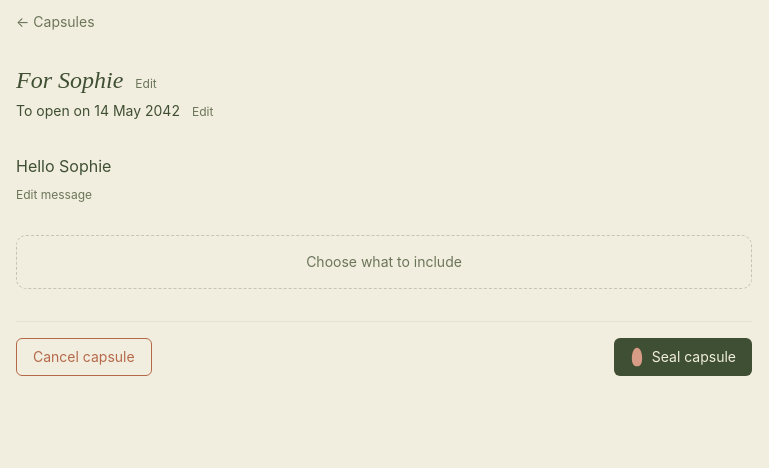
Scenario: CapsuleDetailPage — inline edit recipients › saves updated recipients
expect the text "For Sophie" is shown: met, box [16,64,123,97]
Click the button "Edit" next to "For Sophie".
click(146, 84)  # box [135,76,157,92]
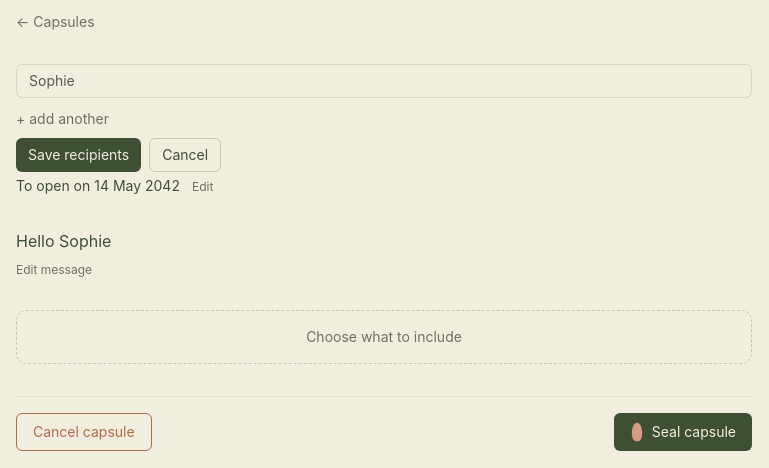
Replace the text in the field with "James" at (384, 81), box [16,64,752,98]
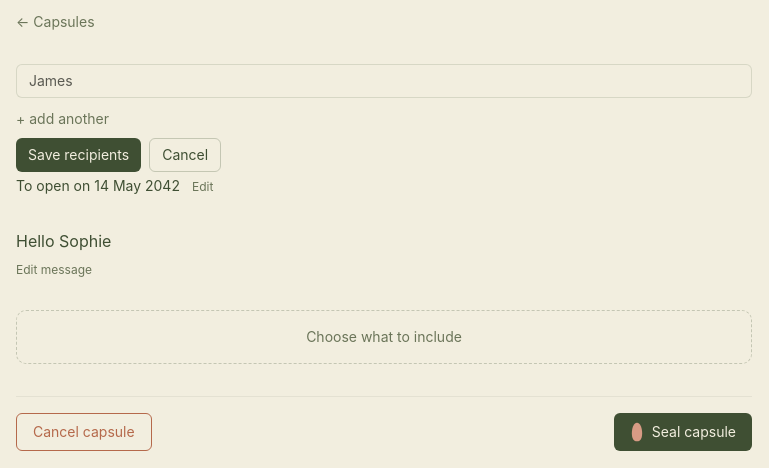
Click the button "Save recipients".
click(79, 155)  # box [16,138,141,172]
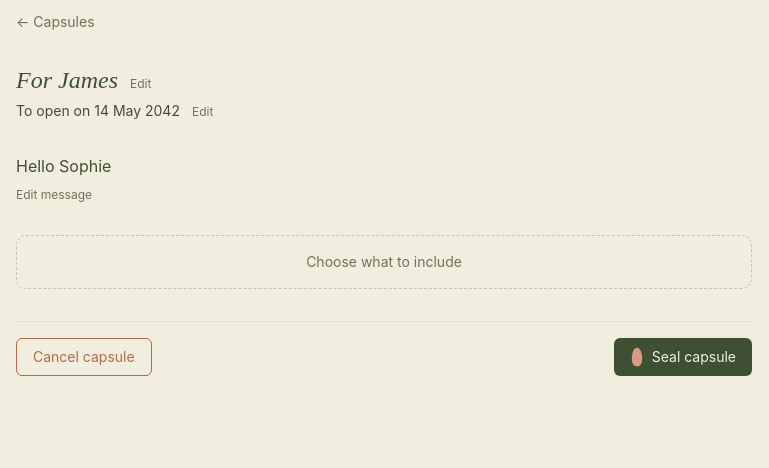
expect the text "For James" is shown: met, box [16,64,118,97]
